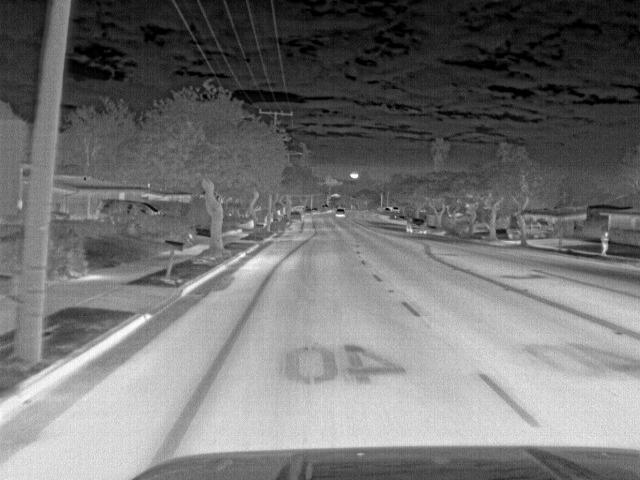car: (96, 198, 165, 223), (404, 218, 430, 234), (289, 208, 303, 220), (335, 207, 347, 218)
person: (599, 231, 611, 256)
